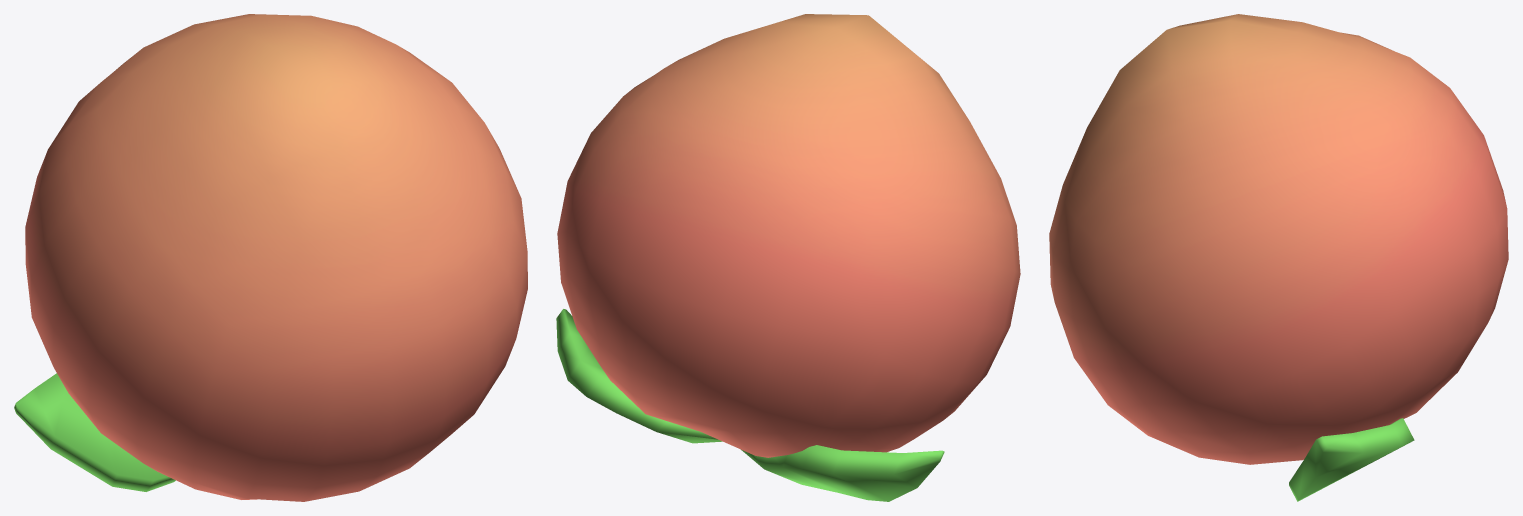
File: peach.fbx
3 renders of one model, left to right at view 1: azimuth 30°, elevation 25°; view 2: azimuth 150°, elevation 25°; view 3: azimuth 270°, elevation 25°, orthographic. The views are drawn at different scales.
Parts seen in each view (by area): view 1: Peach, Leaves; view 2: Peach, Leaves; view 3: Peach, Leaves.
Boxes of the visible parts, x1,y1,x2,y2 form: Peach: (25, 14, 527, 501); Leaves: (14, 373, 175, 491); Peach: (557, 14, 1020, 457); Leaves: (556, 309, 944, 501); Peach: (1049, 14, 1508, 464); Leaves: (1289, 418, 1414, 501).
Size of the model in its own units: 83.29 by 81.92 by 80.65.
